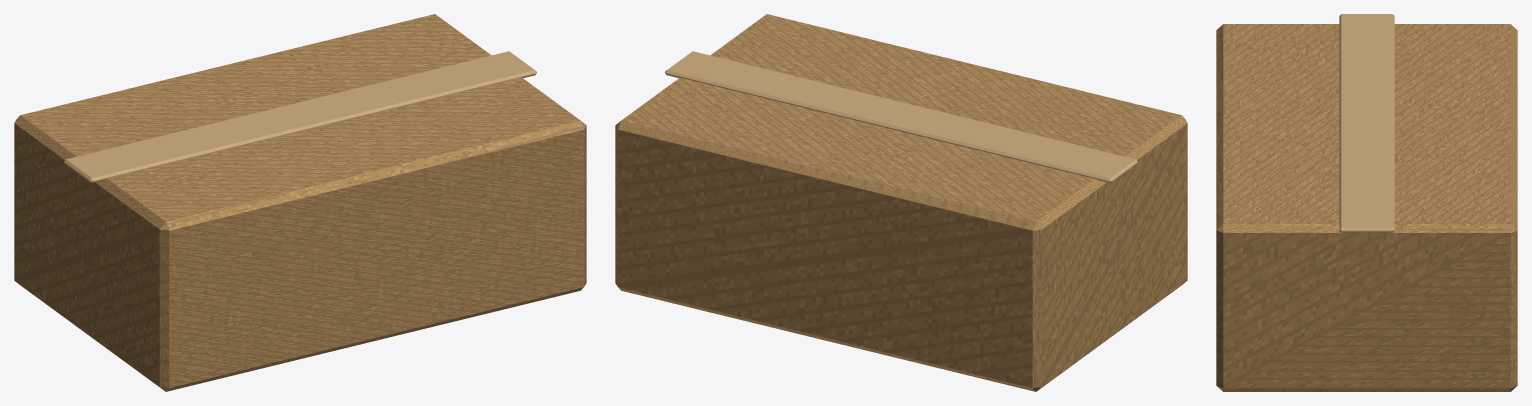
File: box_small.glb
3 renders of one model, left to right at view 1: azimuth 30°, elevation 25°; view 2: azimuth 150°, elevation 25°; view 3: azimuth 270°, elevation 25°, orthographic.
Visible parts, largest first — view 1: block_box, block_tape; view 2: block_box, block_tape; view 3: block_box, block_tape.
Part boxes in pixels (bbox=[...]): block_box: bbox=[14, 14, 586, 391]; block_tape: bbox=[64, 51, 536, 183]; block_box: bbox=[615, 14, 1187, 391]; block_tape: bbox=[665, 51, 1137, 183]; block_box: bbox=[1216, 24, 1517, 391]; block_tape: bbox=[1339, 14, 1394, 232].
Bounding box in the file's own units: 0.22 × 0.0815 × 0.13.
Materials: 1 (1 with a texture image).
